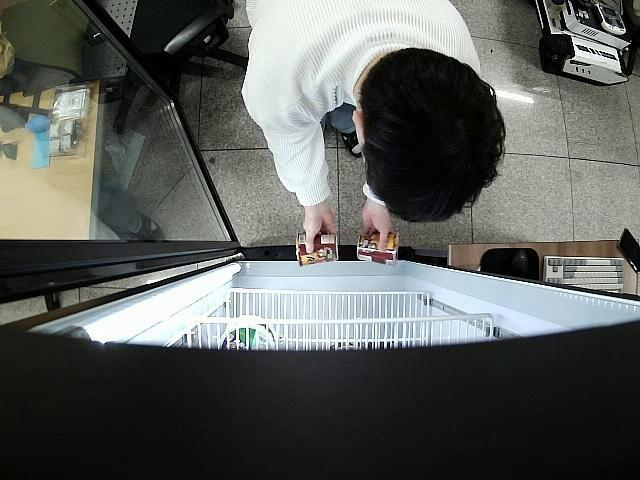06_nuguri_S: (296, 230, 340, 269), (356, 232, 400, 266)
